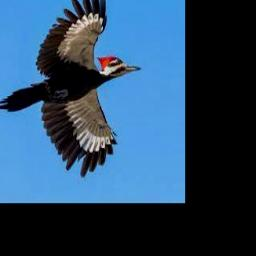Woodpecker: (0, 0, 141, 177)
